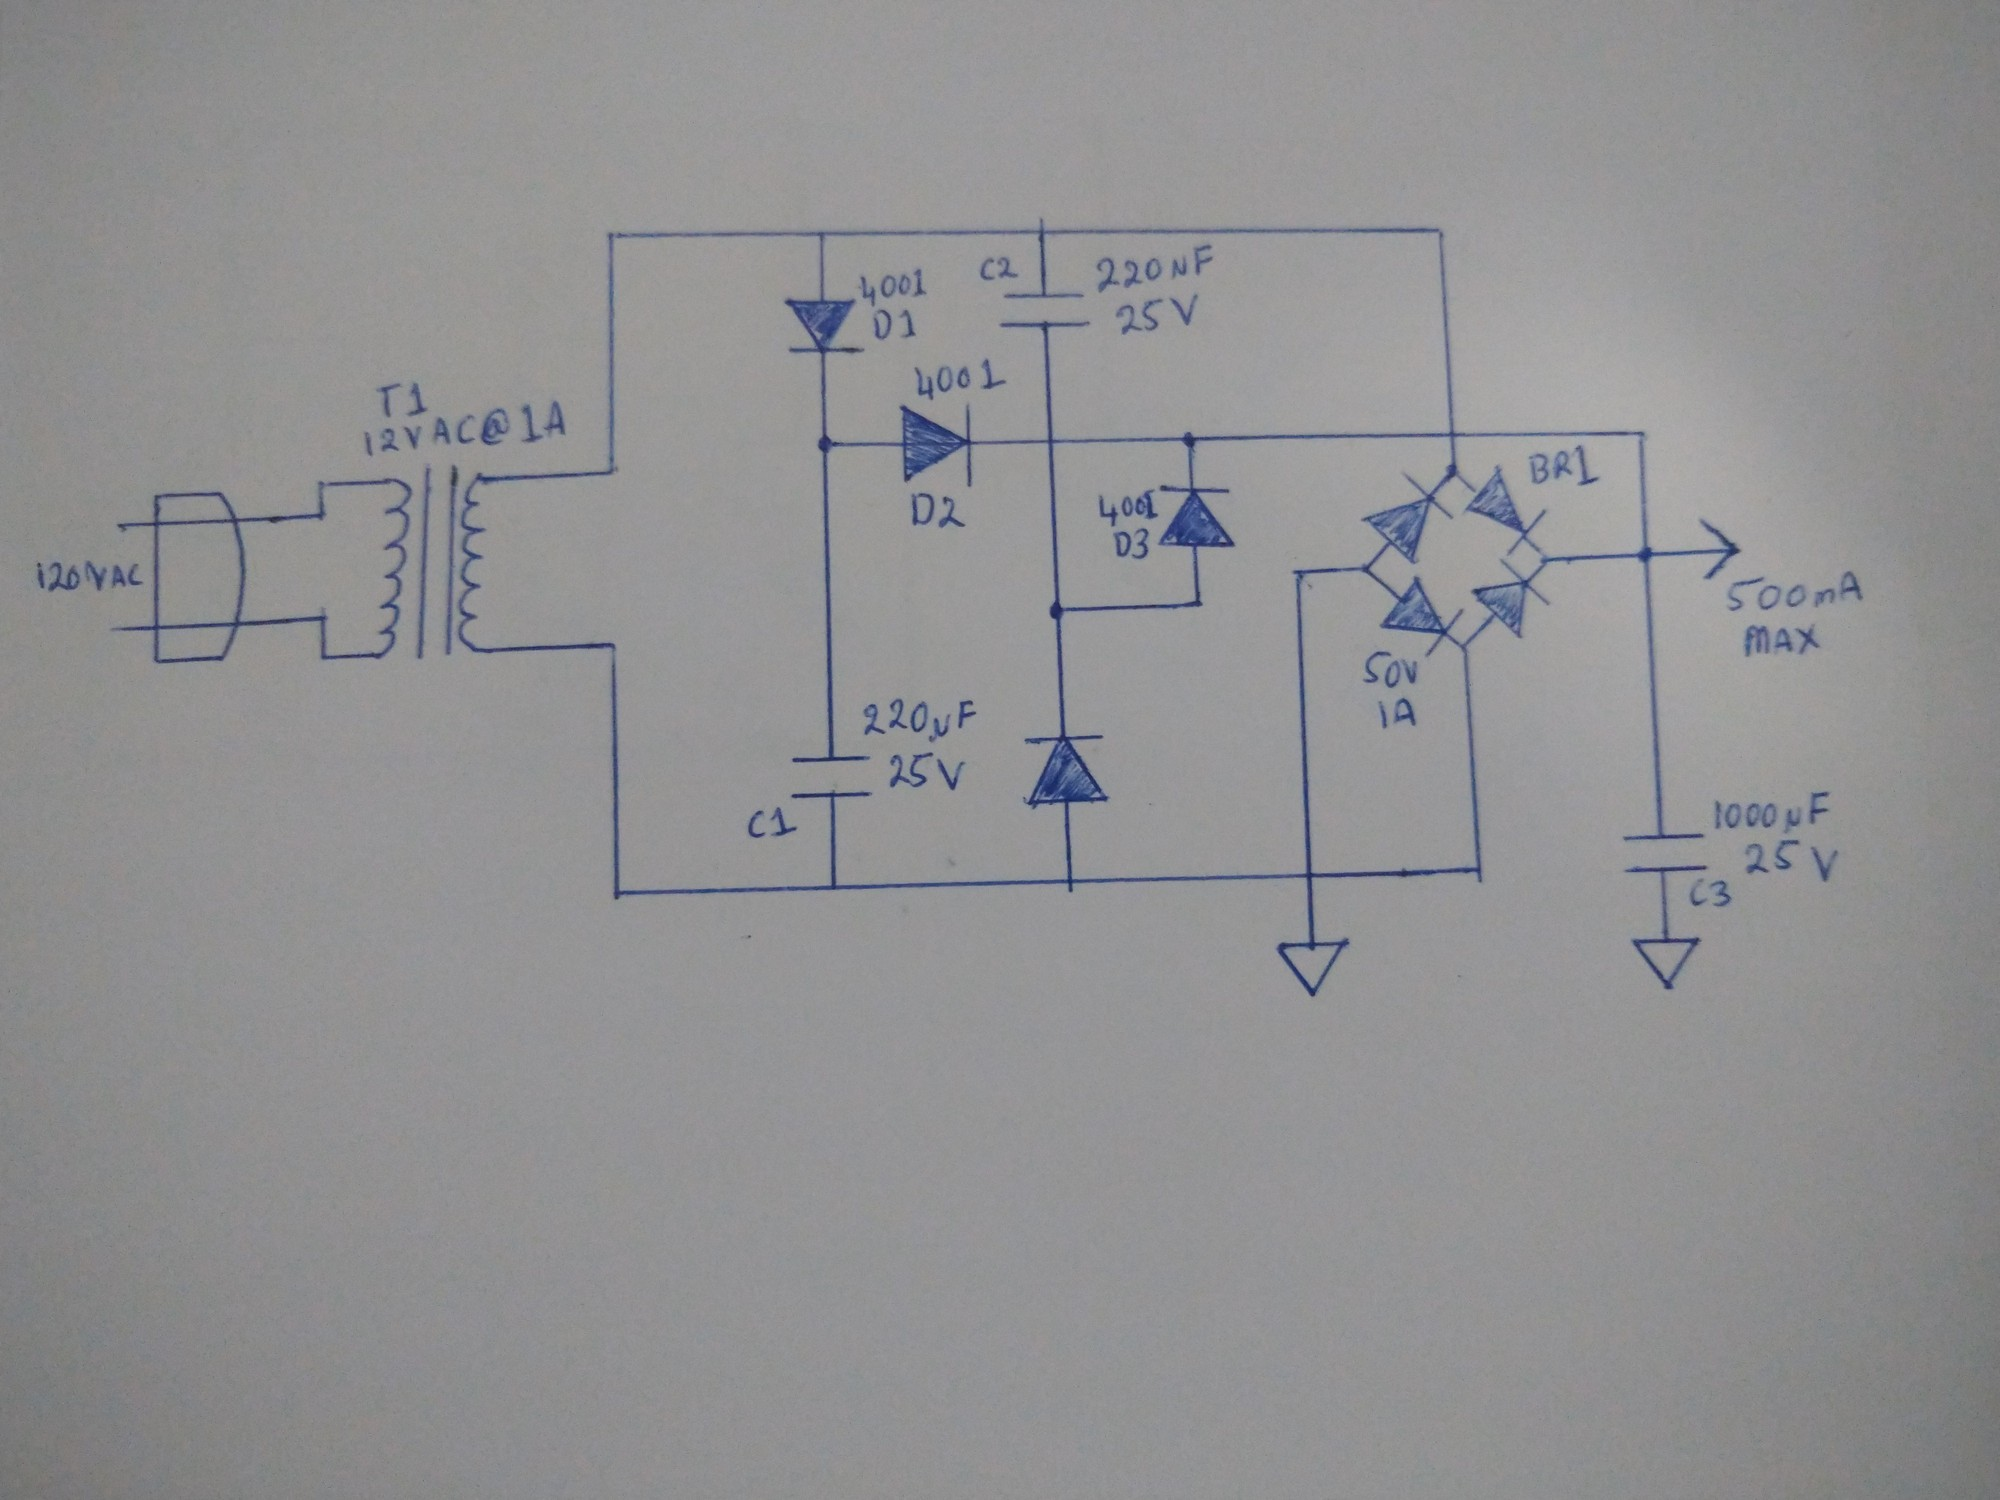capacitor.unpolarized: (786, 745, 880, 807), (998, 288, 1094, 332), (1620, 830, 1710, 874)
crossover: (1438, 425, 1463, 446), (1041, 432, 1058, 451), (1299, 868, 1317, 884)
diode: (1359, 471, 1450, 566), (1014, 731, 1112, 815), (1461, 466, 1551, 556), (1380, 575, 1461, 659), (1468, 559, 1551, 640), (898, 403, 976, 488), (781, 295, 868, 362), (1156, 482, 1236, 551)
junction: (1176, 429, 1205, 457), (1043, 599, 1071, 626), (813, 432, 839, 459), (1184, 591, 1208, 614), (1468, 863, 1491, 887), (1635, 540, 1657, 566), (609, 881, 628, 904), (1063, 874, 1083, 895), (1443, 462, 1465, 481), (1291, 567, 1310, 589), (1033, 224, 1052, 243), (1454, 640, 1472, 659), (1537, 551, 1556, 567), (313, 610, 332, 626), (827, 876, 843, 895), (1631, 429, 1649, 444), (813, 225, 828, 243), (605, 228, 620, 246), (605, 463, 620, 481), (605, 638, 620, 655), (317, 651, 334, 666), (313, 477, 331, 493), (1431, 224, 1447, 239), (312, 511, 331, 523), (1359, 562, 1373, 578)
socket: (148, 488, 263, 674)
terminal: (1274, 937, 1350, 1001), (1628, 936, 1704, 994), (1693, 515, 1742, 585), (109, 514, 137, 539), (102, 619, 132, 640)
text: (361, 400, 572, 455), (1724, 569, 1868, 614), (1093, 243, 1217, 290), (858, 695, 978, 744), (1710, 789, 1831, 834), (1742, 837, 1843, 889), (909, 355, 1009, 402), (30, 556, 148, 596), (887, 748, 970, 797), (1113, 293, 1203, 336), (1742, 619, 1825, 663), (1526, 443, 1602, 488), (1094, 487, 1161, 529), (907, 488, 970, 533), (1356, 649, 1424, 690), (857, 269, 931, 304), (373, 378, 430, 418), (745, 804, 800, 841), (868, 307, 920, 345), (1687, 874, 1737, 912), (1375, 693, 1420, 734), (1109, 526, 1153, 561), (976, 254, 1020, 284)
transformer: (373, 463, 490, 666)
